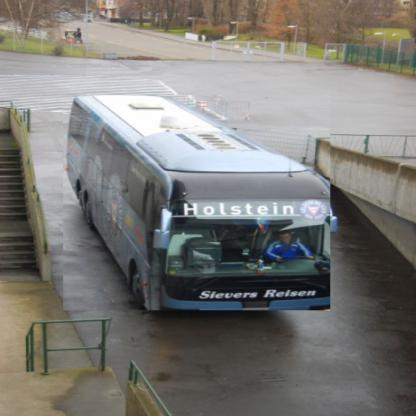bus: (64, 96, 332, 312)
